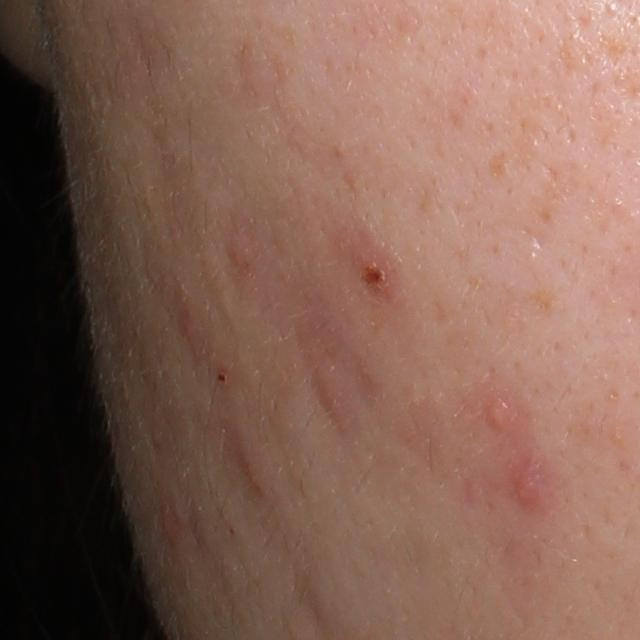papule: (505, 467, 552, 518), (356, 246, 395, 298), (478, 398, 515, 440)
